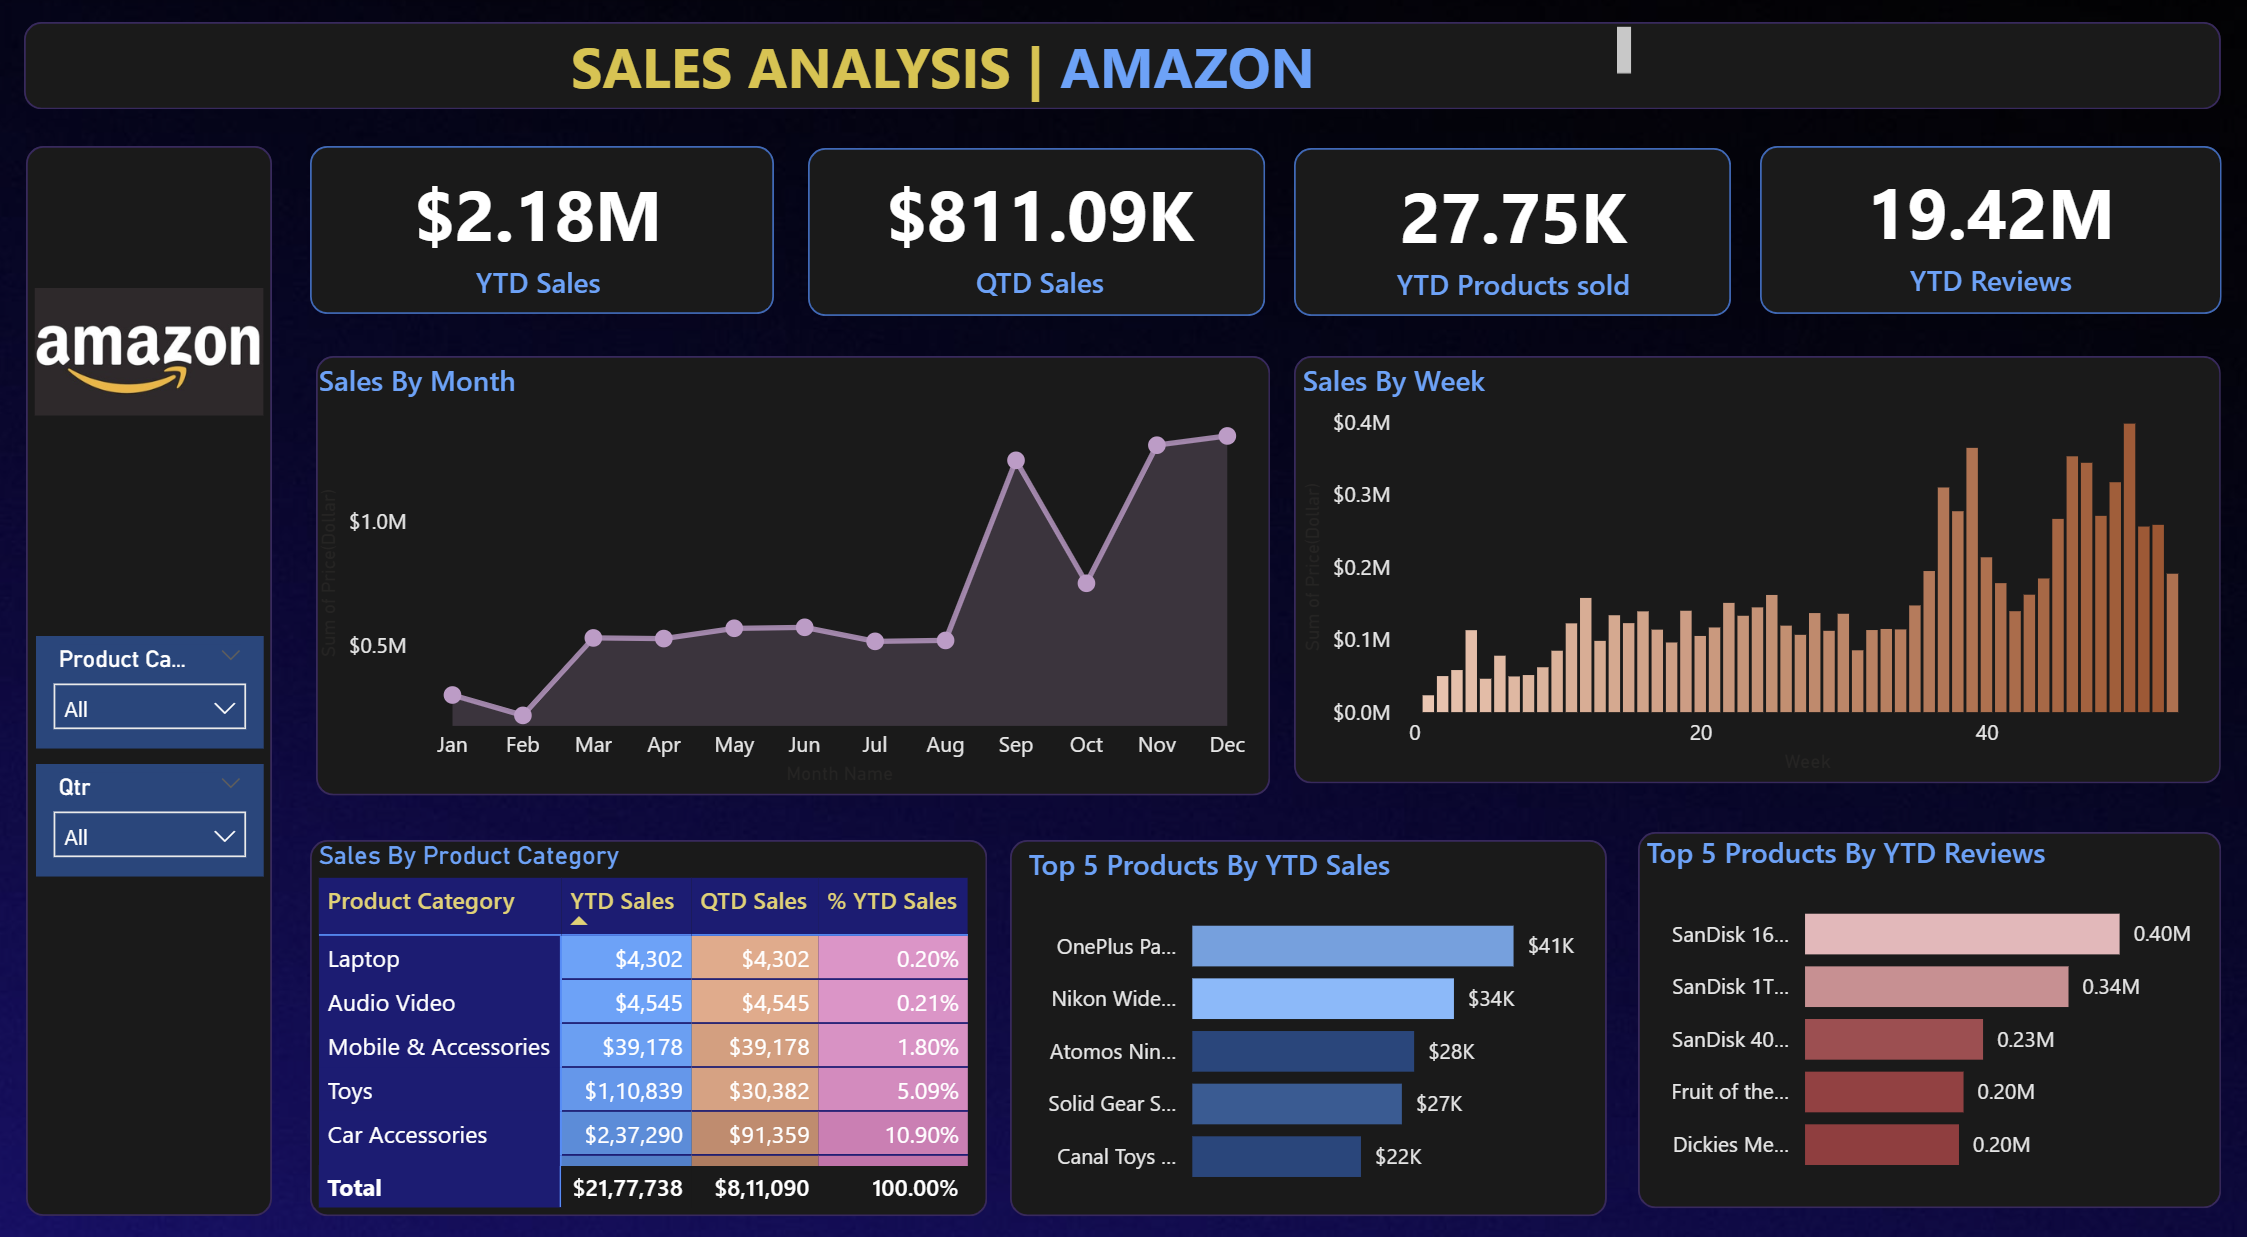

The dashboard page shown, as its layout file describes it:
{"tool":"powerbi","page":{"name":"Page 1","canvas":[1280,720],"ordinal":0},"visuals":[{"type":"shape","box":[15.3,15.3,1249.4,49.7],"z":0},{"type":"textbox","box":[321.3,12.7,613.2,57.4],"z":1000},{"type":"shape","box":[15.6,85.6,141,619.6],"z":2000},{"type":"shape","box":[177.2,85.4,263.9,95.6],"z":3000},{"type":"card","fields":{"Values":["Amazon_Data.YTD Sales"]},"box":[174.1,86.6,266.5,95.3],"z":4000},{"type":"shape","box":[460.2,86.7,260.1,95.6],"z":5000},{"type":"shape","box":[736.9,86.7,248.6,95.6],"z":6000},{"type":"shape","box":[1002.1,85.4,262.6,95.6],"z":7000},{"type":"card","fields":{"Values":["Amazon_Data.QTD Sales"]},"box":[460.2,86.7,263.9,95.6],"z":8000},{"type":"card","fields":{"Values":["Amazon_Data.YTD Products sold"]},"box":[738.2,88,247.3,95.6],"z":9000},{"type":"card","fields":{"Values":["Amazon_Data.YTD Reviews"]},"box":[1002.1,85.4,262.6,95.6],"z":10000},{"type":"shape","box":[180.9,205.2,542.7,250],"z":11000},{"type":"areaChart","title":"Sales By Month","fields":{"Category":["Data Table.Month Name"],"Y":["Sum(Amazon_Data.Price(Dollar))"]},"box":[177,207.2,542.7,246.1],"z":12000},{"type":"shape","box":[737.3,205.2,527.2,243.2],"z":13000},{"type":"columnChart","title":"Sales By Week","fields":{"Category":["Data Table.Week"],"Y":["Sum(Amazon_Data.Price(Dollar))"]},"box":[737.3,207.2,528.1,239.3],"z":14000},{"type":"shape","box":[177,479.5,385.2,214],"z":15000},{"type":"pivotTable","title":"Sales By Product Category","fields":{"Rows":["Amazon_Data.Product Category"],"Values":["Amazon_Data.YTD Sales1","Amazon_Data.QTD Sales","Amazon_Data.YTD Sales"]},"box":[177,479.5,422.1,214],"z":16000},{"type":"shape","box":[932.8,475.6,331.7,214],"z":17000},{"type":"shape","box":[575.8,479.5,339.5,214],"z":18000},{"type":"clusteredBarChart","title":"Top 5 Products By YTD Sales","fields":{"Category":["Amazon_Data.Product Description"],"Y":["Amazon_Data.YTD Sales"]},"box":[580.7,482.4,341.4,207.2],"z":19000},{"type":"clusteredBarChart","title":"Top 5 Products By YTD Reviews","fields":{"Category":["Amazon_Data.Product Description"],"Y":["Amazon_Data.YTD Reviews"]},"box":[932.8,475.6,326.8,207.2],"z":20000},{"type":"slicer","fields":{"Values":["Amazon_Data.Product Category"]},"box":[21.4,363.8,129.4,64.2],"z":21000},{"type":"slicer","fields":{"Values":["Data Table.Qtr"]},"box":[21.4,436.7,129.4,64.2],"z":22000},{"type":"image","box":[15.6,133.3,140.1,138.1],"z":23000}]}

Visuals, with their boxes in screenshot pixels (x1, y1, x2, y2), scaled from the page's 1280x720 canvas onto the 2247x1237 screenshot:
shape: (27, 26, 2220, 112)
textbox: (564, 22, 1640, 120)
shape: (27, 147, 275, 1212)
shape: (311, 147, 774, 311)
card - Amazon_Data.YTD Sales: (306, 149, 773, 313)
shape: (808, 149, 1264, 313)
shape: (1294, 149, 1730, 313)
shape: (1759, 147, 2220, 311)
card - Amazon_Data.QTD Sales: (808, 149, 1271, 313)
card - Amazon_Data.YTD Products sold: (1296, 151, 1730, 315)
card - Amazon_Data.YTD Reviews: (1759, 147, 2220, 311)
shape: (318, 353, 1270, 782)
"Sales By Month" areaChart: (311, 356, 1263, 779)
shape: (1294, 353, 2220, 770)
"Sales By Week" columnChart: (1294, 356, 2221, 767)
shape: (311, 824, 987, 1191)
"Sales By Product Category" pivotTable: (311, 824, 1052, 1191)
shape: (1638, 817, 2220, 1185)
shape: (1011, 824, 1607, 1191)
"Top 5 Products By YTD Sales" clusteredBarChart: (1019, 829, 1619, 1185)
"Top 5 Products By YTD Reviews" clusteredBarChart: (1638, 817, 2211, 1173)
slicer - Amazon_Data.Product Category: (38, 625, 265, 735)
slicer - Data Table.Qtr: (38, 750, 265, 861)
image: (27, 229, 273, 466)
